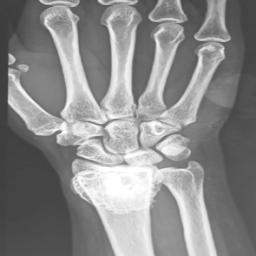cancer: (71, 166, 161, 214)
